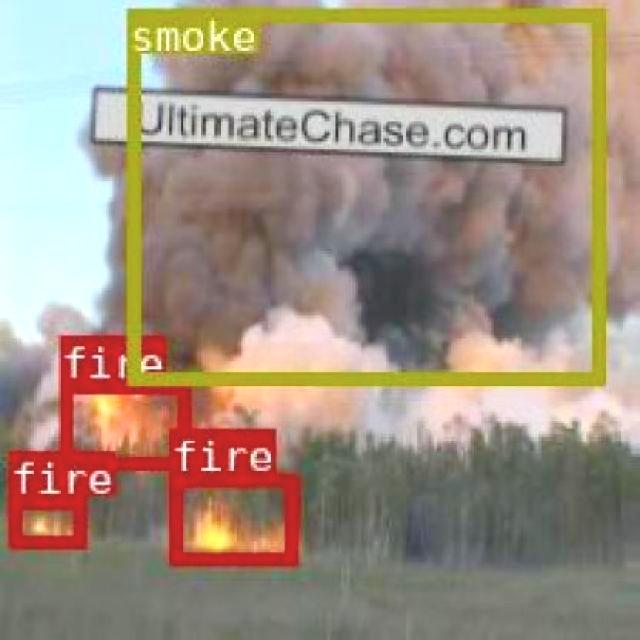fire: (168, 472, 294, 562), (58, 380, 187, 466), (7, 494, 84, 544)
smoke: (124, 7, 604, 382)
